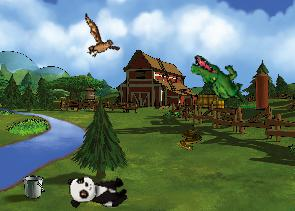crocodile: (184, 53, 251, 104)
eagle: (69, 13, 127, 66)
panda: (67, 174, 128, 208)
